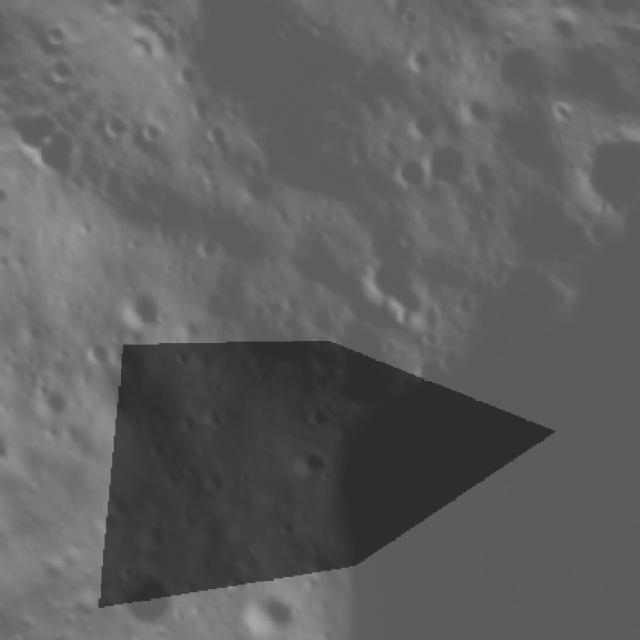crater: (230, 571, 312, 640), (25, 124, 100, 199), (412, 128, 485, 201), (272, 427, 345, 499), (110, 282, 179, 351), (378, 143, 440, 205), (23, 374, 83, 434), (399, 104, 452, 156), (396, 33, 447, 84), (73, 329, 124, 380), (128, 111, 178, 162), (91, 104, 140, 154), (230, 0, 310, 28)
